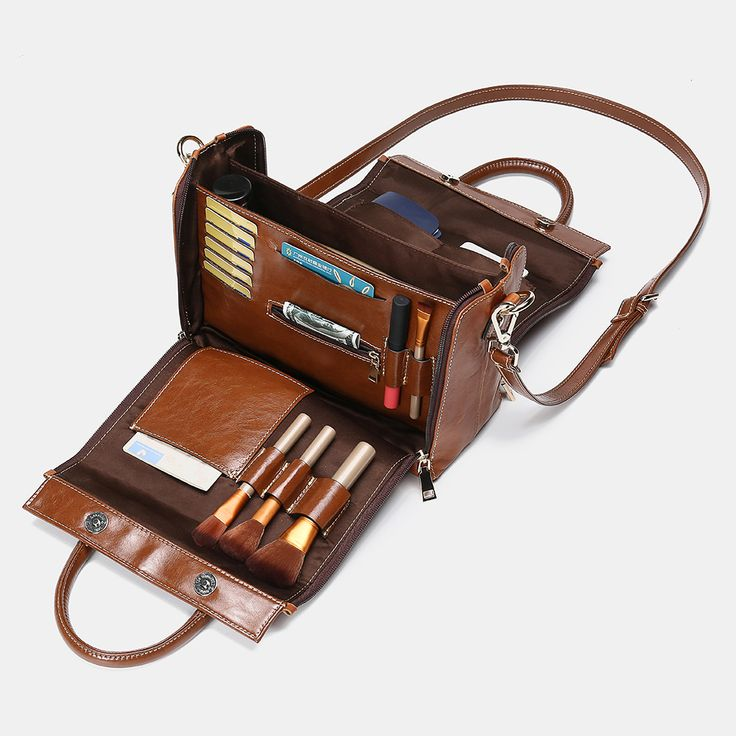cuero: (22, 81, 711, 667)
